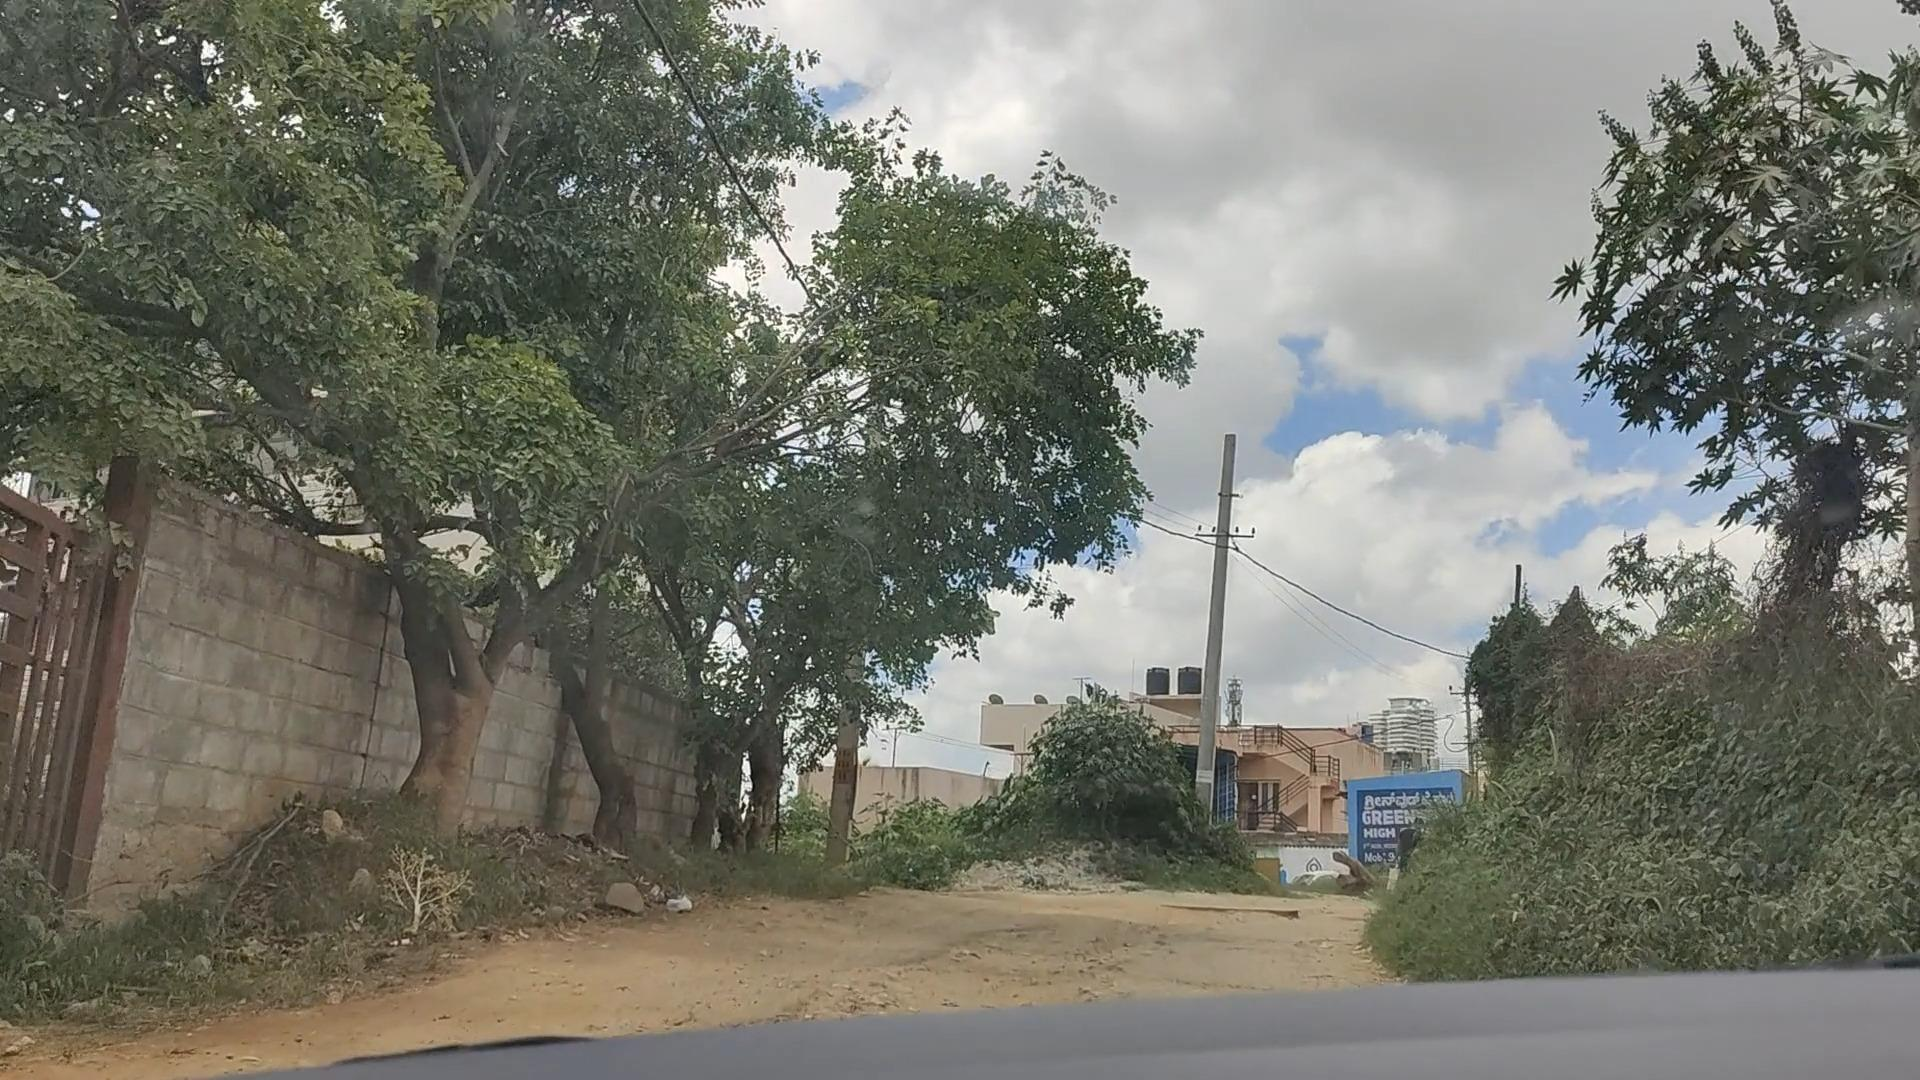RoadDamages: (799, 890, 1224, 1009)
